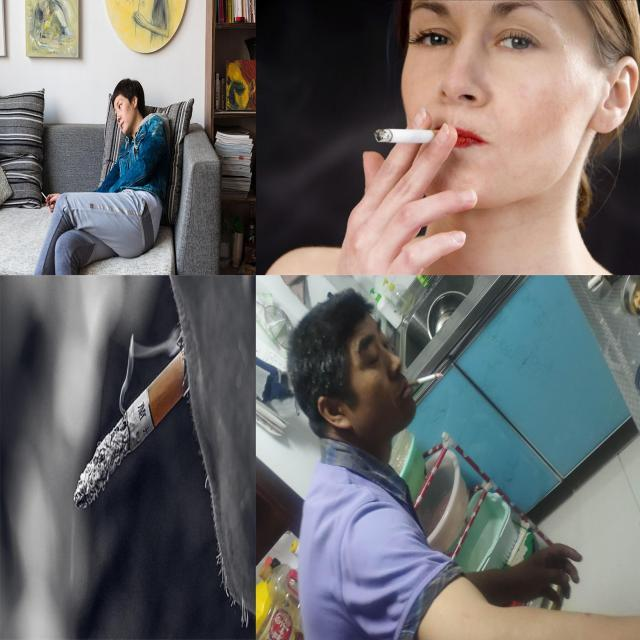cigarette: (74, 346, 192, 511), (374, 127, 447, 145), (406, 372, 444, 388), (40, 190, 51, 206)
